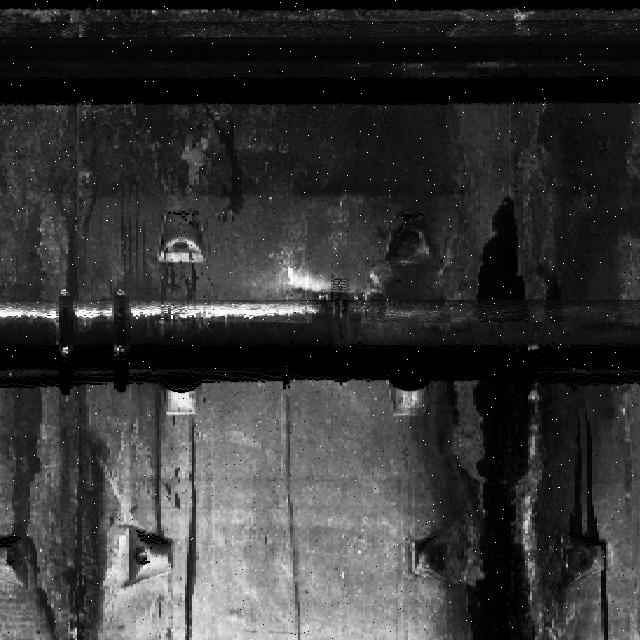leakage: (292, 101, 633, 297), (408, 380, 638, 635), (1, 378, 166, 639), (1, 108, 175, 304), (179, 412, 205, 639), (205, 107, 247, 222)
